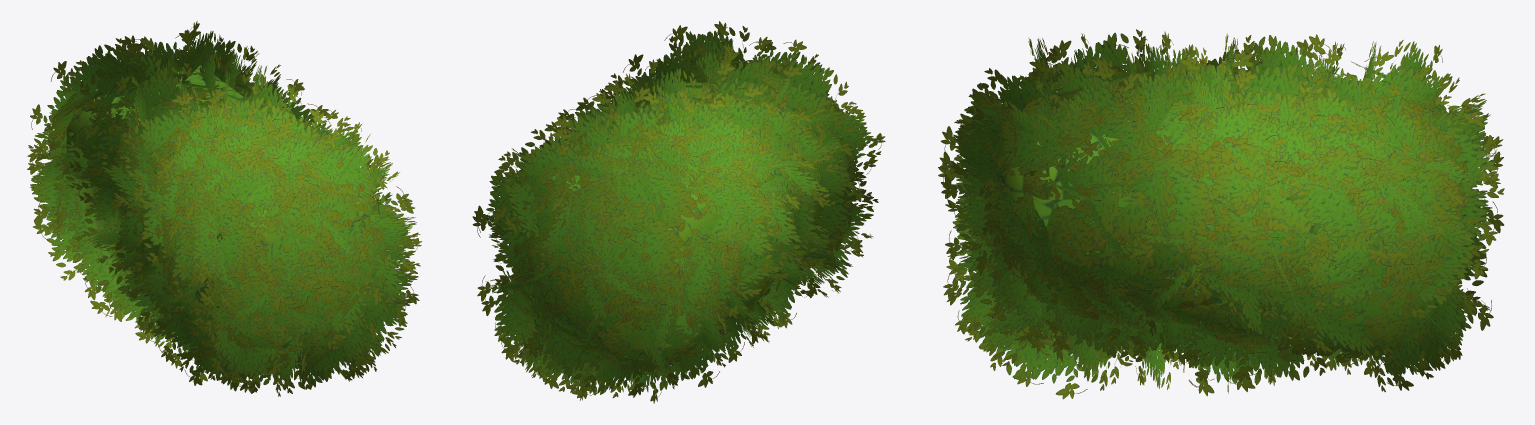
Rendered from SM_Bush06.fbx.
3 views of the same model, side by side, from view 1: azimuth 30°, elevation 25°; view 2: azimuth 150°, elevation 25°; view 3: azimuth 270°, elevation 25° (orthographic). The views are drawn at different scales.
Visible parts, largest first — view 1: SM_Bush06_LOD0; view 2: SM_Bush06_LOD0; view 3: SM_Bush06_LOD0.
Boxes of the visible parts, box(x1,y1,x2,y2) form: SM_Bush06_LOD0: box(27, 21, 421, 396); SM_Bush06_LOD0: box(472, 21, 885, 403); SM_Bush06_LOD0: box(938, 29, 1504, 399).
Size of the model in its own units: 165 by 264 by 166.
Materials: 1 (1 with a texture image).
